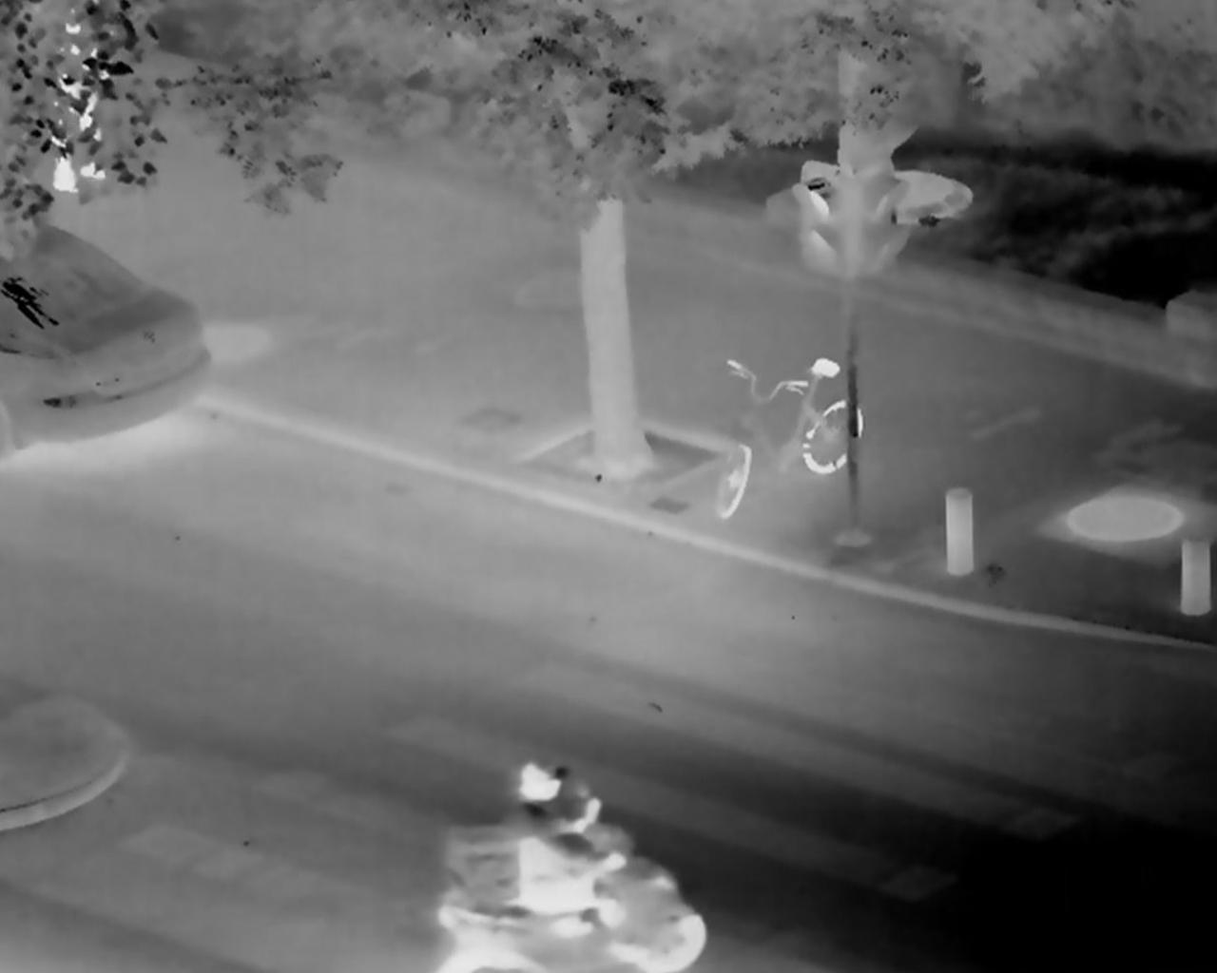person: (476, 754, 644, 946)
